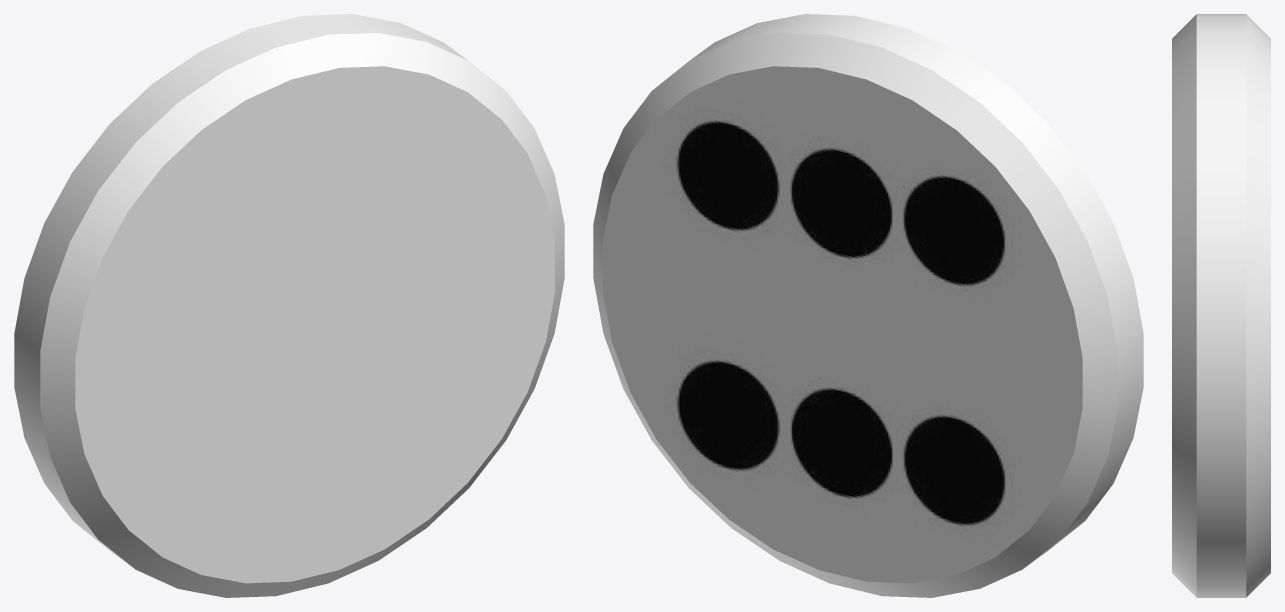
Rendered from Chip_6.fbx.
The picture shows the model from 3 angles, left to right: view 1: azimuth 30°, elevation 25°; view 2: azimuth 150°, elevation 25°; view 3: azimuth 270°, elevation 25°; orthographic projection. The views are drawn at different scales.
Parts seen in each view (by area): view 1: Chip_6; view 2: Chip_6; view 3: Chip_6.
Boxes of the visible parts, x1=… form: Chip_6: x1=14, y1=14, x2=564, y2=597; Chip_6: x1=593, y1=14, x2=1143, y2=597; Chip_6: x1=1172, y1=14, x2=1270, y2=597.
Size of the model in its own units: 118 by 118 by 20.
